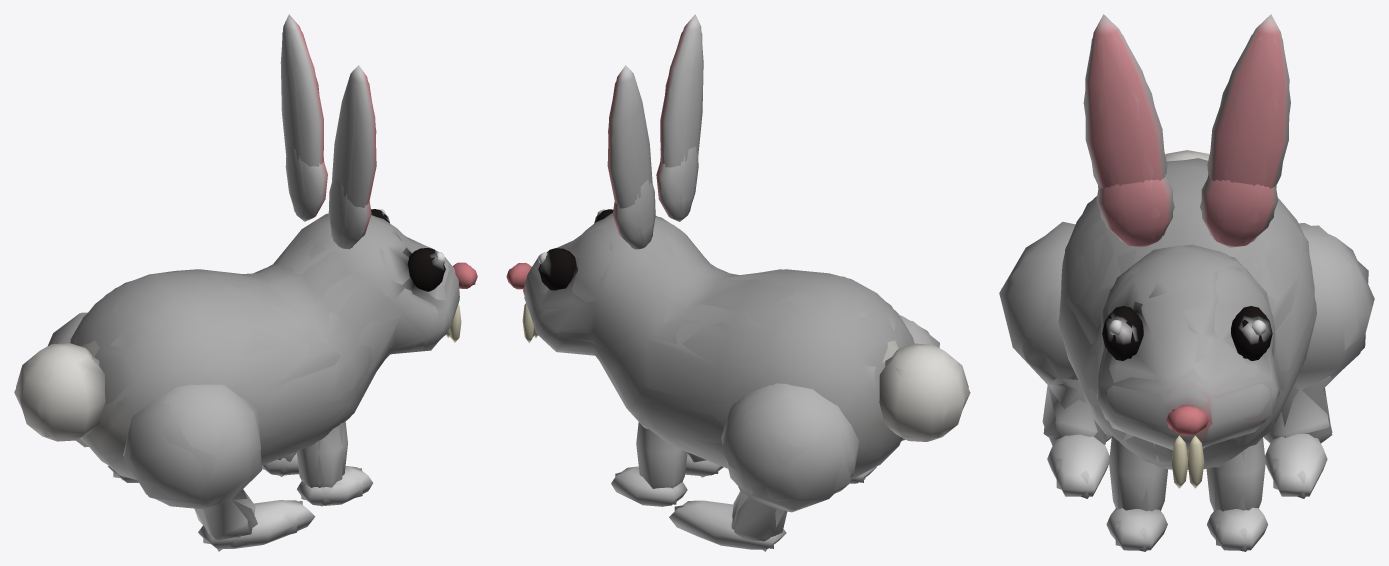
File: rabbit.glb
3 views of the same model, side by side, from view 1: azimuth 30°, elevation 25°; view 2: azimuth 150°, elevation 25°; view 3: azimuth 270°, elevation 25° (orthographic). The views are drawn at different scales.
Parts seen in each view (by area): view 1: rabbit_body, rabbit_body_lod, rabbit_hind_r, rabbit_ear_long_l, rabbit_ear_long_r, rabbit_hind_r_lod, rabbit_ear_short_l, rabbit_ear_short_r, rabbit_ear_long_l_lod, rabbit_ear_long_r_lod, rabbit_hind_l; view 2: rabbit_body, rabbit_body_lod, rabbit_hind_l, rabbit_ear_long_r, rabbit_ear_long_l, rabbit_hind_l_lod, rabbit_ear_short_r, rabbit_ear_short_l, rabbit_ear_long_r_lod, rabbit_ear_long_l_lod; view 3: rabbit_body, rabbit_body_lod, rabbit_hind_l, rabbit_hind_r, rabbit_ear_long_l, rabbit_ear_long_r, rabbit_ear_short_l, rabbit_ear_short_r, rabbit_hind_r_lod, rabbit_hind_l_lod, rabbit_ear_long_r_lod, rabbit_ear_long_l_lod (+3 smaller).
Part boxes in pixels (x1=…): rabbit_body: x1=16, y1=209, x2=477, y2=506; rabbit_body_lod: x1=14, y1=213, x2=475, y2=505; rabbit_hind_r: x1=123, y1=384, x2=315, y2=548; rabbit_ear_long_l: x1=280, y1=14, x2=323, y2=166; rabbit_ear_long_r: x1=331, y1=65, x2=376, y2=207; rabbit_hind_r_lod: x1=123, y1=393, x2=302, y2=551; rabbit_ear_short_l: x1=285, y1=146, x2=327, y2=221; rabbit_ear_short_r: x1=328, y1=179, x2=371, y2=249; rabbit_ear_long_l_lod: x1=281, y1=31, x2=323, y2=163; rabbit_ear_long_r_lod: x1=333, y1=78, x2=376, y2=204; rabbit_hind_l: x1=48, y1=312, x2=138, y2=482; rabbit_body: x1=506, y1=209, x2=968, y2=506; rabbit_body_lod: x1=509, y1=213, x2=970, y2=504; rabbit_hind_l: x1=669, y1=383, x2=858, y2=549; rabbit_ear_long_r: x1=660, y1=14, x2=703, y2=167; rabbit_ear_long_l: x1=607, y1=65, x2=652, y2=208; rabbit_hind_l_lod: x1=674, y1=383, x2=851, y2=551; rabbit_ear_short_r: x1=656, y1=146, x2=698, y2=221; rabbit_ear_short_l: x1=612, y1=180, x2=655, y2=249; rabbit_ear_long_r_lod: x1=660, y1=31, x2=702, y2=163; rabbit_ear_long_l_lod: x1=608, y1=79, x2=651, y2=205; rabbit_body: x1=1059, y1=150, x2=1314, y2=550; rabbit_body_lod: x1=1058, y1=158, x2=1316, y2=551; rabbit_hind_l: x1=1263, y1=223, x2=1374, y2=496; rabbit_hind_r: x1=999, y1=224, x2=1111, y2=496; rabbit_ear_long_l: x1=1209, y1=14, x2=1289, y2=188; rabbit_ear_long_r: x1=1085, y1=14, x2=1165, y2=188; rabbit_ear_short_l: x1=1201, y1=178, x2=1278, y2=247; rabbit_ear_short_r: x1=1096, y1=178, x2=1173, y2=247; rabbit_hind_r_lod: x1=1001, y1=221, x2=1106, y2=498; rabbit_hind_l_lod: x1=1273, y1=225, x2=1368, y2=498; rabbit_ear_long_r_lod: x1=1083, y1=34, x2=1167, y2=185; rabbit_ear_long_l_lod: x1=1207, y1=34, x2=1290, y2=185.
Bounding box in the file's own units: 1.1 × 1.04 × 0.6589.
